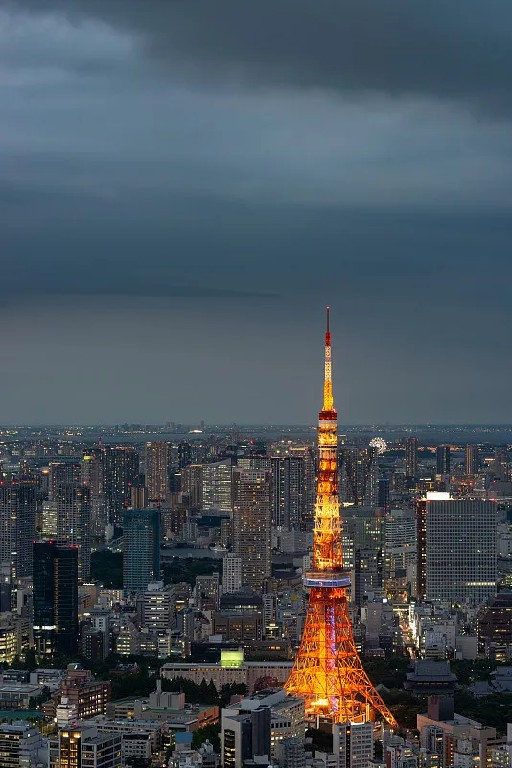Tokyo: (287, 305, 399, 730)
